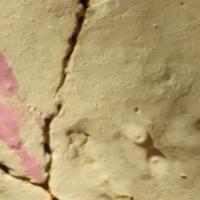crack: (0, 0, 86, 199)
